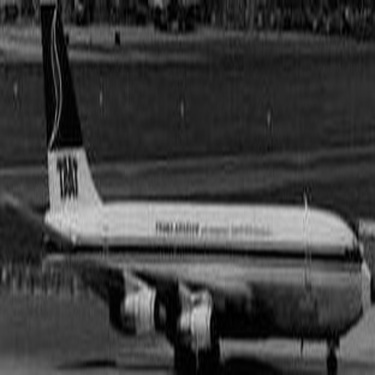airplane: (6, 2, 371, 371)
